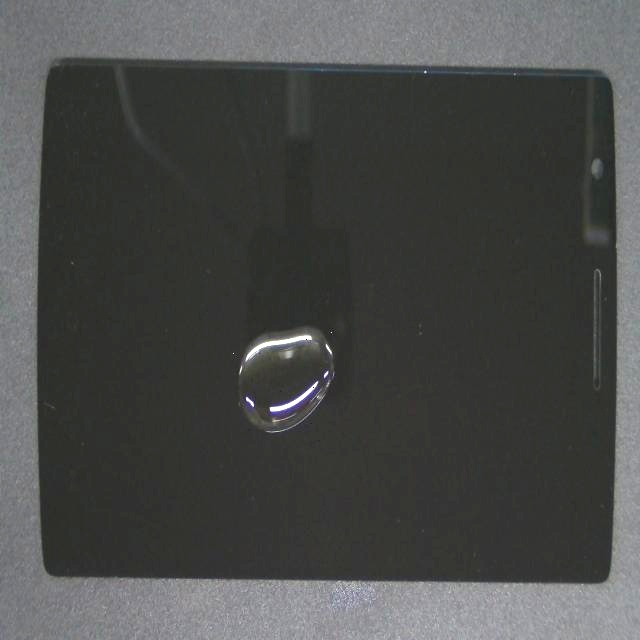oil: (186, 175, 481, 505)
